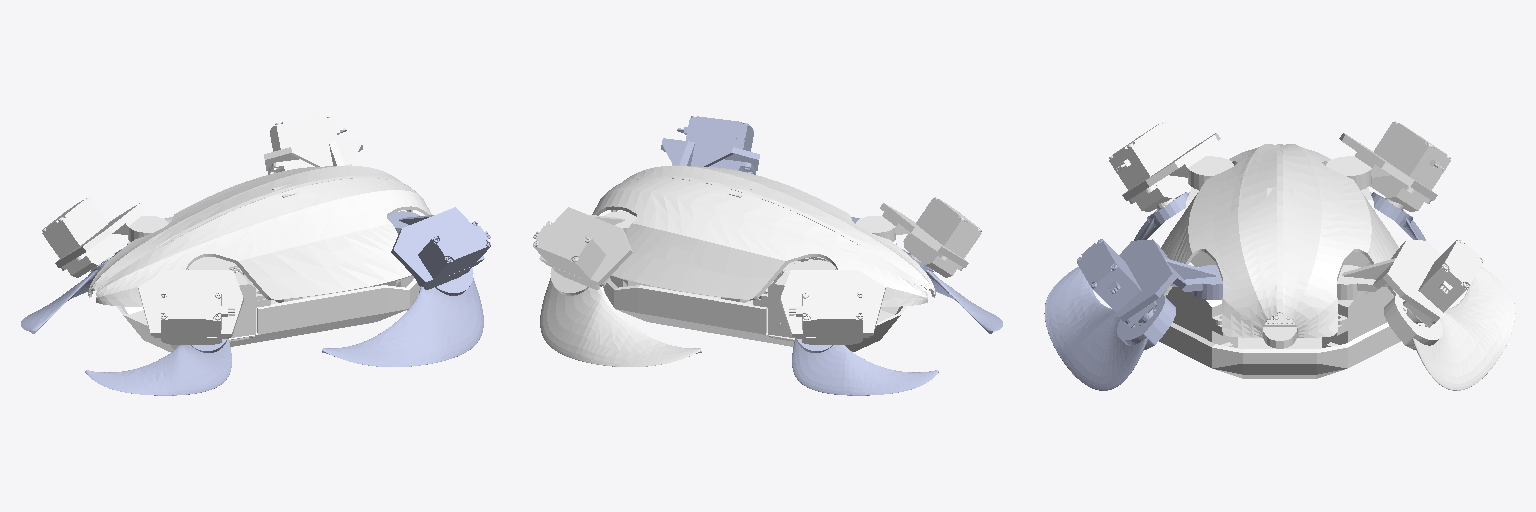
URDF robot description (Onland1):
<?xml version="1.0" encoding="utf-8"?>
<!-- This URDF was automatically created by SolidWorks to URDF Exporter! Originally created by [author] ([email redacted]) 
     Commit Version: 1.6.0-4-g7f85cfe  Build Version: 1.6.7995.38578
     For more information, please see http://wiki.ros.org/sw_urdf_exporter -->
<robot
  name="Onland1">
<link name="base_footprint">
    <visual>
        <origin xyz="0 0 0" rpy="0 0 0" />
        <geometry>
            <box size="0.001 0.001 0.001" />
        </geometry>
    </visual>
</link>

<joint name="base_footprint_joint" type="fixed">
    <origin xyz="0 0 0.001" rpy="0 0 0" />
    <parent link="base_footprint"/>
    <child link="base_link" />
</joint>
  <link
    name="base_link">
    <inertial>
      <origin
        xyz="-0.00681811822788861 -3.84661812128772E-05 -0.00222513864249343"
        rpy="0 0 0" />
      <mass
        value="0.376490676794725" />
      <inertia
        ixx="0.000319399106891007"
        ixy="2.99379868832311E-07"
        ixz="-1.85942042630127E-05"
        iyy="0.000809102760149014"
        iyz="4.86278416734269E-08"
        izz="0.00105347989085106" />
    </inertial>
    <visual>
      <origin
        xyz="0 0 0"
        rpy="0 0 0" />
      <geometry>
        <mesh
          filename="package://landTurtle2/meshes/visual/base_link.STL" />
      </geometry>
      <material
        name="">
        <color
          rgba="1 1 1 1" />
      </material>
    </visual>
    <collision>
      <origin
        xyz="0 0 0"
        rpy="0 0 0" />
      <geometry>
        <mesh
          filename="package://landTurtle2/meshes/visual/base_link.STL" />
      </geometry>
    </collision>
  </link>
  <link
    name="Front_right1">
    <inertial>
      <origin
        xyz="0.00808052162964917 0.0449217979633324 -0.00321309252710611"
        rpy="0 0 0" />
      <mass
        value="0.0478422027217928" />
      <inertia
        ixx="1.07549991205532E-05"
        ixy="-1.06732554744789E-06"
        ixz="-7.7730357900512E-08"
        iyy="1.15165207395343E-05"
        iyz="-1.85188487393681E-06"
        izz="1.53961637057992E-05" />
    </inertial>
    <visual>
      <origin
        xyz="0 0 0"
        rpy="0 0 0" />
      <geometry>
        <mesh
          filename="package://landTurtle2/meshes/visual/Front_right1.STL" />
      </geometry>
      <material
        name="">
        <color
          rgba="0.792156862745098 0.819607843137255 0.933333333333333 1" />
      </material>
    </visual>
    <collision>
      <origin
        xyz="0 0 0"
        rpy="0 0 0" />
      <geometry>
        <mesh
          filename="package://landTurtle2/meshes/visual/Front_right1.STL" />
      </geometry>
    </collision>
  </link>
  <joint
    name="Front_right1_joint"
    type="revolute">
    <origin
      xyz="0.065905120563842 -0.0384605776591281 0.0289999999999999"
      rpy="0 0 -2.90426571688811" />
    <parent
      link="base_link" />
    <child
      link="Front_right1" />
    <axis
      xyz="0 0 -1" />
    <limit
      lower="-0.7854"
      upper="0.7854"
      effort="0"
      velocity="0" />
  </joint>
  <link
    name="Front_right2">
    <inertial>
      <origin
        xyz="-0.021021848093744 -0.0218401305507092 -0.00741623880370179"
        rpy="0 0 0" />
      <mass
        value="0.0283675634219841" />
      <inertia
        ixx="8.54340601443015E-06"
        ixy="-6.30807167420187E-06"
        ixz="1.97748599968732E-07"
        iyy="2.49526631308493E-05"
        iyz="-4.9472797372268E-07"
        izz="3.28648052987208E-05" />
    </inertial>
    <visual>
      <origin
        xyz="0 0 0"
        rpy="0 0 0" />
      <geometry>
        <mesh
          filename="package://landTurtle2/meshes/visual/Front_right2.STL" />
      </geometry>
      <material
        name="">
        <color
          rgba="0.792156862745098 0.819607843137255 0.933333333333333 1" />
      </material>
    </visual>
    <collision>
      <origin
        xyz="0 0 0"
        rpy="0 0 0" />
      <geometry>
        <mesh
          filename="package://landTurtle2/meshes/visual/Front_right2.STL" />
      </geometry>
    </collision>
  </link>
  <joint
    name="Front_right2_joint"
    type="revolute">
    <origin
      xyz="0 0.0420569075591256 -0.020373716882811"
      rpy="0.698131700797741 0 3.14159265358979" />
    <parent
      link="Front_right1" />
    <child
      link="Front_right2" />
    <axis
      xyz="0 0 1" />
    <limit
      lower="-0.2618"
      upper="0.2618"
      effort="0"
      velocity="0" />
  </joint>
  <link
    name="Back_right1">
    <inertial>
      <origin
        xyz="-0.00871373127566328 -0.0361267566394633 -0.0130527181254355"
        rpy="0 0 0" />
      <mass
        value="0.0471003387502271" />
      <inertia
        ixx="8.9391808159085E-06"
        ixy="-8.30184045883693E-07"
        ixz="-1.32782544003822E-07"
        iyy="1.22306184558657E-05"
        iyz="7.45041910577434E-07"
        izz="1.41312593703319E-05" />
    </inertial>
    <visual>
      <origin
        xyz="0 0 0"
        rpy="0 0 0" />
      <geometry>
        <mesh
          filename="package://landTurtle2/meshes/visual/Back_right1.STL" />
      </geometry>
      <material
        name="">
        <color
          rgba="1 1 1 1" />
      </material>
    </visual>
    <collision>
      <origin
        xyz="0 0 0"
        rpy="0 0 0" />
      <geometry>
        <mesh
          filename="package://landTurtle2/meshes/visual/Back_right1.STL" />
      </geometry>
    </collision>
  </link>
  <joint
    name="Back_right1_joint"
    type="revolute">
    <origin
      xyz="-0.0837677595780109 -0.0400835603852042 0.0290000000000001"
      rpy="0 0 -0.554759974652648" />
    <parent
      link="base_link" />
    <child
      link="Back_right1" />
    <axis
      xyz="0 0 -1" />
    <limit
      lower="-0.7854"
      upper="0.7854"
      effort="0"
      velocity="0" />
  </joint>
  <link
    name="Back_right2">
    <inertial>
      <origin
        xyz="-0.0341711377701623 -0.0241171820068243 0.001154975874834"
        rpy="0 0 0" />
      <mass
        value="0.00999009765522167" />
      <inertia
        ixx="2.08331821365722E-06"
        ixy="-1.50841082576915E-06"
        ixz="5.84770980252225E-08"
        iyy="3.79958639798917E-06"
        iyz="-6.85144283002588E-08"
        izz="5.7805743959628E-06" />
    </inertial>
    <visual>
      <origin
        xyz="0 0 0"
        rpy="0 0 0" />
      <geometry>
        <mesh
          filename="package://landTurtle2/meshes/visual/Back_right2.STL" />
      </geometry>
      <material
        name="">
        <color
          rgba="0.792156862745098 0.819607843137255 0.933333333333333 1" />
      </material>
    </visual>
    <collision>
      <origin
        xyz="0 0 0"
        rpy="0 0 0" />
      <geometry>
        <mesh
          filename="package://landTurtle2/meshes/visual/Back_right2.STL" />
      </geometry>
    </collision>
  </link>
  <joint
    name="Back_right2_joint"
    type="revolute">
    <origin
      xyz="0.0225373319057556 -0.0205582947794068 -0.0323466257195996"
      rpy="0.698131700797726 0 0" />
    <parent
      link="Back_right1" />
    <child
      link="Back_right2" />
    <axis
      xyz="0 0 1" />
    <limit
      lower="-0.2618"
      upper="0.2618"
      effort="0"
      velocity="0" />
  </joint>
  <link
    name="Front_left1">
    <inertial>
      <origin
        xyz="0.00808052159056422 -0.0449213462125582 -0.00321271349754684"
        rpy="0 0 0" />
      <mass
        value="0.0478422028624038" />
      <inertia
        ixx="1.07549991380887E-05"
        ixy="1.06753850252779E-06"
        ixz="-7.755171013591E-08"
        iyy="1.15158632373778E-05"
        iyz="1.85200083864815E-06"
        izz="1.53968212885557E-05" />
    </inertial>
    <visual>
      <origin
        xyz="0 0 0"
        rpy="0 0 0" />
      <geometry>
        <mesh
          filename="package://landTurtle2/meshes/visual/Front_left1.STL" />
      </geometry>
      <material
        name="">
        <color
          rgba="1 1 1 1" />
      </material>
    </visual>
    <collision>
      <origin
        xyz="0 0 0"
        rpy="0 0 0" />
      <geometry>
        <mesh
          filename="package://landTurtle2/meshes/visual/Front_left1.STL" />
      </geometry>
    </collision>
  </link>
  <joint
    name="Front_left1_joint"
    type="revolute">
    <origin
      xyz="0.065905120563842 0.0384605776591282 0.0289999999999999"
      rpy="0 0 2.90426571688811" />
    <parent
      link="base_link" />
    <child
      link="Front_left1" />
    <axis
      xyz="0 0 -1" />
    <limit
      lower="-0.7854"
      upper="0.7854"
      effort="0"
      velocity="0" />
  </joint>
  <link
    name="Front_left2">
    <inertial>
      <origin
        xyz="0.0210209202048704 -0.0218404061543293 -0.0074163348118039"
        rpy="0 0 0" />
      <mass
        value="0.0283694753081617" />
      <inertia
        ixx="8.5444443168284E-06"
        ixy="6.30748532171341E-06"
        ixz="-1.97842747109685E-07"
        iyy="2.4952474398111E-05"
        iyz="-4.94861686000644E-07"
        izz="3.28655979189005E-05" />
    </inertial>
    <visual>
      <origin
        xyz="0 0 0"
        rpy="0 0 0" />
      <geometry>
        <mesh
          filename="package://landTurtle2/meshes/visual/Front_left2.STL" />
      </geometry>
      <material
        name="">
        <color
          rgba="1 1 1 1" />
      </material>
    </visual>
    <collision>
      <origin
        xyz="0 0 0"
        rpy="0 0 0" />
      <geometry>
        <mesh
          filename="package://landTurtle2/meshes/visual/Front_left2.STL" />
      </geometry>
    </collision>
  </link>
  <joint
    name="Front_left2_joint"
    type="revolute">
    <origin
      xyz="0 -0.0420569075591256 -0.020373716882811"
      rpy="0.698131700797741 0 0" />
    <parent
      link="Front_left1" />
    <child
      link="Front_left2" />
    <axis
      xyz="0 0 1" />
    <limit
      lower="-0.2618"
      upper="0.2618"
      effort="0"
      velocity="0" />
  </joint>
  <link
    name="Back_left1">
    <inertial>
      <origin
        xyz="-0.00871373127063055 0.0361262978079295 -0.0130523331260205"
        rpy="0 0 0" />
      <mass
        value="0.047100338766454" />
      <inertia
        ixx="8.93918081866271E-06"
        ixy="8.30396963317425E-07"
        ixz="-1.32961197398557E-07"
        iyy="1.22299609471971E-05"
        iyz="-7.45157850972274E-07"
        izz="1.41319168895854E-05" />
    </inertial>
    <visual>
      <origin
        xyz="0 0 0"
        rpy="0 0 0" />
      <geometry>
        <mesh
          filename="package://landTurtle2/meshes/visual/Back_left1.STL" />
      </geometry>
      <material
        name="">
        <color
          rgba="1 1 1 1" />
      </material>
    </visual>
    <collision>
      <origin
        xyz="0 0 0"
        rpy="0 0 0" />
      <geometry>
        <mesh
          filename="package://landTurtle2/meshes/visual/Back_left1.STL" />
      </geometry>
    </collision>
  </link>
  <joint
    name="Back_left1_joint"
    type="revolute">
    <origin
      xyz="-0.0837677595780109 0.0400835603852042 0.0290000000000001"
      rpy="0 0 0.554759974652648" />
    <parent
      link="base_link" />
    <child
      link="Back_left1" />
    <axis
      xyz="0 0 -1" />
    <limit
      lower="-0.7854"
      upper="0.7854"
      effort="0"
      velocity="0" />
  </joint>
  <link
    name="Back_left2">
    <inertial>
      <origin
        xyz="-0.00273750917277035 0.0417326564161763 0.00115414123659353"
        rpy="0 0 0" />
      <mass
        value="0.00999226374716188" />
      <inertia
        ixx="4.59509751436122E-06"
        ixy="5.23970897600539E-07"
        ixz="9.01736609617561E-08"
        iyy="1.28722119013764E-06"
        iyz="-2.45268383708239E-09"
        izz="5.77989744315876E-06" />
    </inertial>
    <visual>
      <origin
        xyz="0 0 0"
        rpy="0 0 0" />
      <geometry>
        <mesh
          filename="package://landTurtle2/meshes/visual/Back_left2.STL" />
      </geometry>
      <material
        name="">
        <color
          rgba="0.792156862745098 0.819607843137255 0.933333333333333 1" />
      </material>
    </visual>
    <collision>
      <origin
        xyz="0 0 0"
        rpy="0 0 0" />
      <geometry>
        <mesh
          filename="package://landTurtle2/meshes/visual/Back_left2.STL" />
      </geometry>
    </collision>
  </link>
  <joint
    name="Back_left2_joint"
    type="revolute">
    <origin
      xyz="0.0225373319057557 0.0205582947794068 -0.0323466257195996"
      rpy="-0.485580480160512 0.523309333004977 0.758177666057813" />
    <parent
      link="Back_left1" />
    <child
      link="Back_left2" />
    <axis
      xyz="0 0 1" />
    <limit
      lower="-0.2618"
      upper="0.2618"
      effort="0"
      velocity="0" />
  </joint>
  <link
    name="Sensor_link">
    <inertial>
      <origin
        xyz="-2.25214372452731E-05 0.103607028948444 -0.00174327710854269"
        rpy="0 0 0" />
      <mass
        value="0.656382274118652" />
      <inertia
        ixx="0.00398589796619268"
        ixy="6.81523498247126E-07"
        ixz="7.5942173311683E-08"
        iyy="0.00261594481266056"
        iyz="4.49451871288875E-05"
        izz="0.00597901119561345" />
    </inertial>
    <visual>
      <origin
        xyz="0 0 0"
        rpy="0 0 0" />
      <geometry>
        <mesh
          filename="package://landTurtle2/meshes/visual/Sensor_link.STL" />
      </geometry>
      <material
        name="">
        <color
          rgba="1 1 1 1" />
      </material>
    </visual>
    <collision>
      <origin
        xyz="0 0 0"
        rpy="0 0 0" />
      <geometry>
        <mesh
          filename="package://landTurtle2/meshes/visual/Sensor_link.STL" />
      </geometry>
    </collision>
  </link>
  <joint
    name="sensor"
    type="fixed">
    <origin
      xyz="0.0975 0 0.005"
      rpy="0 0 1.5708" />
    <parent
      link="base_link" />
    <child
      link="Sensor_link" />
    <axis
      xyz="0 0 0" />
  </joint>
</robot>

--- Facts derived from the render (not from the file) ---
Views: 3 orthographic renders of the robot side by side, from view 1: azimuth 30°, elevation 25°; view 2: azimuth 150°, elevation 25°; view 3: azimuth 270°, elevation 25°.
Robot: Onland1 — 11 links, 10 joints (8 revolute, 2 fixed); root link base_footprint; default pose: every joint at zero.
Visible links, largest first — view 1: base_link, Front_right2, Back_right1, Front_right1, Back_left1, Back_right2, Front_left1, Back_left2; view 2: base_link, Front_left2, Back_left1, Front_left1, Back_right1, Back_left2, Front_right1, Back_right2; view 3: base_link, Front_right2, Front_left2, Front_right1, Front_left1, Back_right1, Back_left1, Back_right2, Back_left2.
Link boxes in pixels (<box>): base_link: <box>88,166,431,351</box>; Front_right2: <box>322,268,483,366</box>; Back_right1: <box>138,260,243,344</box>; Front_right1: <box>387,207,490,289</box>; Back_left1: <box>42,197,167,277</box>; Back_right2: <box>85,339,231,395</box>; Front_left1: <box>264,116,362,174</box>; Back_left2: <box>21,249,121,333</box>; base_link: <box>592,166,935,351</box>; Front_left2: <box>540,268,701,366</box>; Back_left1: <box>780,260,885,344</box>; Front_left1: <box>533,207,636,289</box>; Back_right1: <box>856,197,981,277</box>; Back_left2: <box>792,339,938,395</box>; Front_right1: <box>661,116,759,174</box>; Back_right2: <box>902,249,1002,333</box>; base_link: <box>1159,144,1400,378</box>; Front_right2: <box>1044,267,1175,390</box>; Front_left2: <box>1384,267,1515,390</box>; Front_right1: <box>1077,239,1222,327</box>; Front_left1: <box>1337,239,1482,327</box>; Back_right1: <box>1109,121,1233,211</box>; Back_left1: <box>1326,121,1450,211</box>; Back_right2: <box>1134,192,1189,240</box>; Back_left2: <box>1370,192,1425,240</box>.
Bounding box of the posed robot: 0.2815 × 0.2741 × 0.0886 m (x, y, z).
9 mesh visuals loaded from 10 distinct referenced files (9 binary STL); not drawn: 1 (file found but could not be loaded).